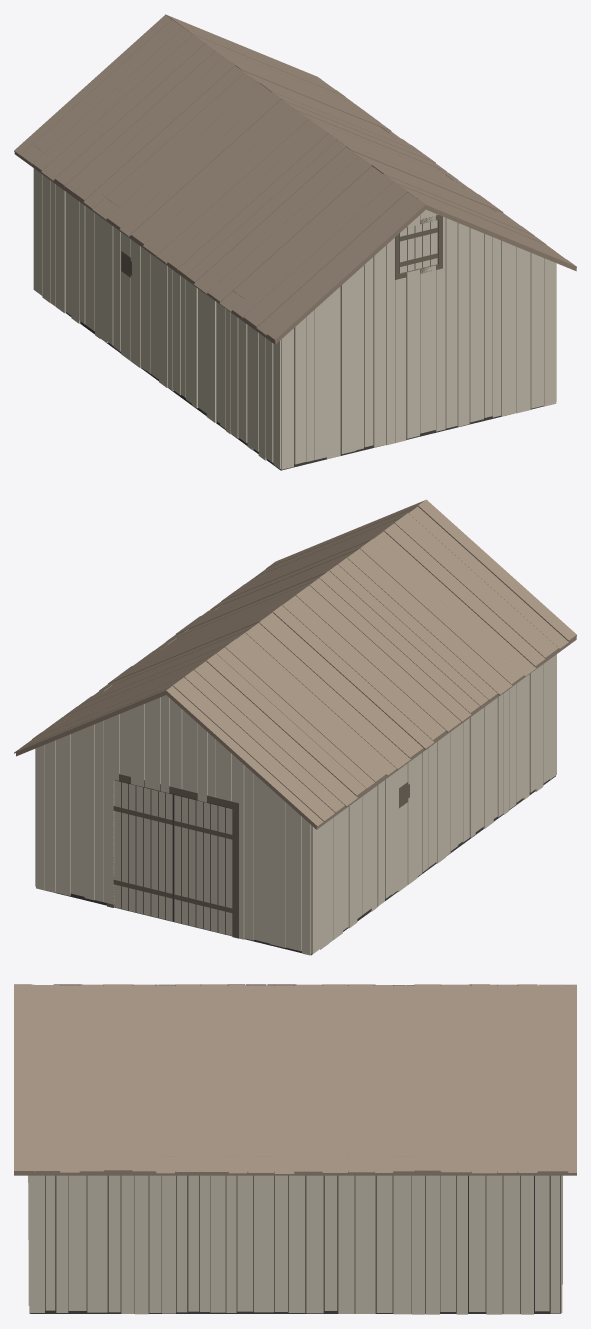
The model's file is recon_1835_west_021__inferred_1835.glb.
3 views of the same model, one above another, from view 1: azimuth 30°, elevation 25°; view 2: azimuth 150°, elevation 25°; view 3: azimuth 270°, elevation 25° (orthographic). The views are drawn at different scales.
Visible parts, largest first — view 1: recon_1835_west_021__inferred_1835; view 2: recon_1835_west_021__inferred_1835; view 3: recon_1835_west_021__inferred_1835.
Part boxes in pixels (x1,y1,x2,y2): recon_1835_west_021__inferred_1835: (14,14,576,470); recon_1835_west_021__inferred_1835: (14,499,576,955); recon_1835_west_021__inferred_1835: (14,984,576,1314).
Size of the model in its own units: 7.46 by 5.55 by 11.01.
